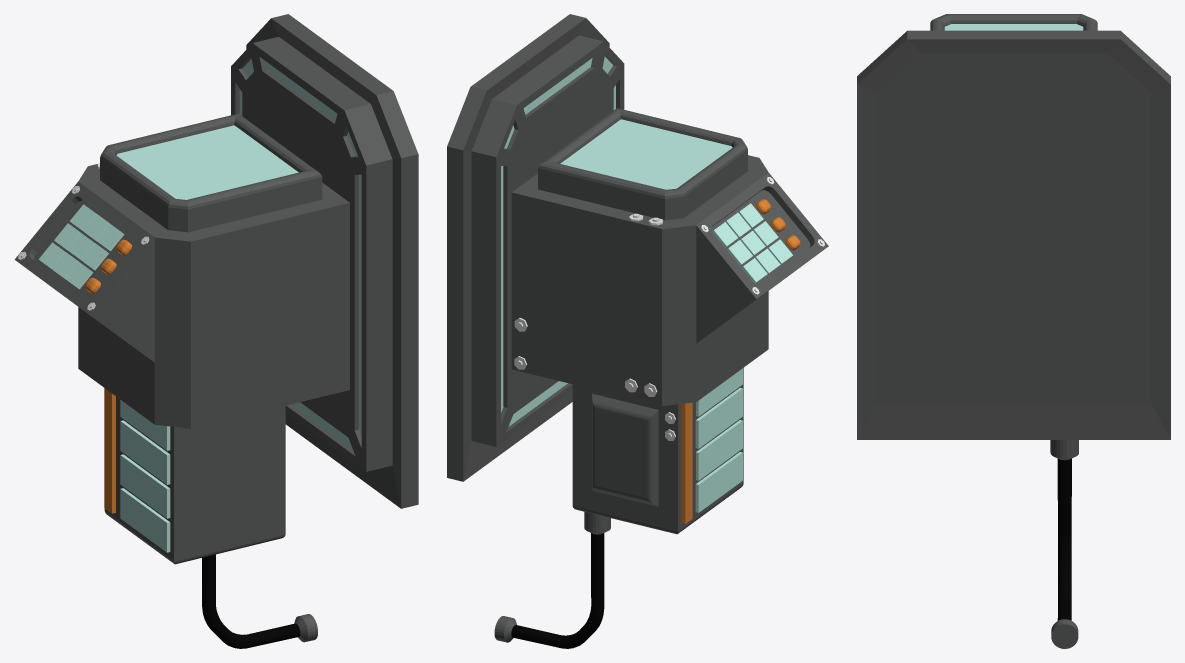
File: terminal_03.fbx
3 views of the same model, side by side, from view 1: azimuth 30°, elevation 25°; view 2: azimuth 150°, elevation 25°; view 3: azimuth 270°, elevation 25° (orthographic). The views are drawn at different scales.
Parts seen in each view (by area): view 1: terminal_03; view 2: terminal_03; view 3: terminal_03.
Part boxes in pixels (<box>): terminal_03: <box>14,14,418,648</box>; terminal_03: <box>447,14,828,648</box>; terminal_03: <box>857,14,1170,648</box>.
Size of the model in its own units: 0.479 by 0.4456 by 0.9586.
